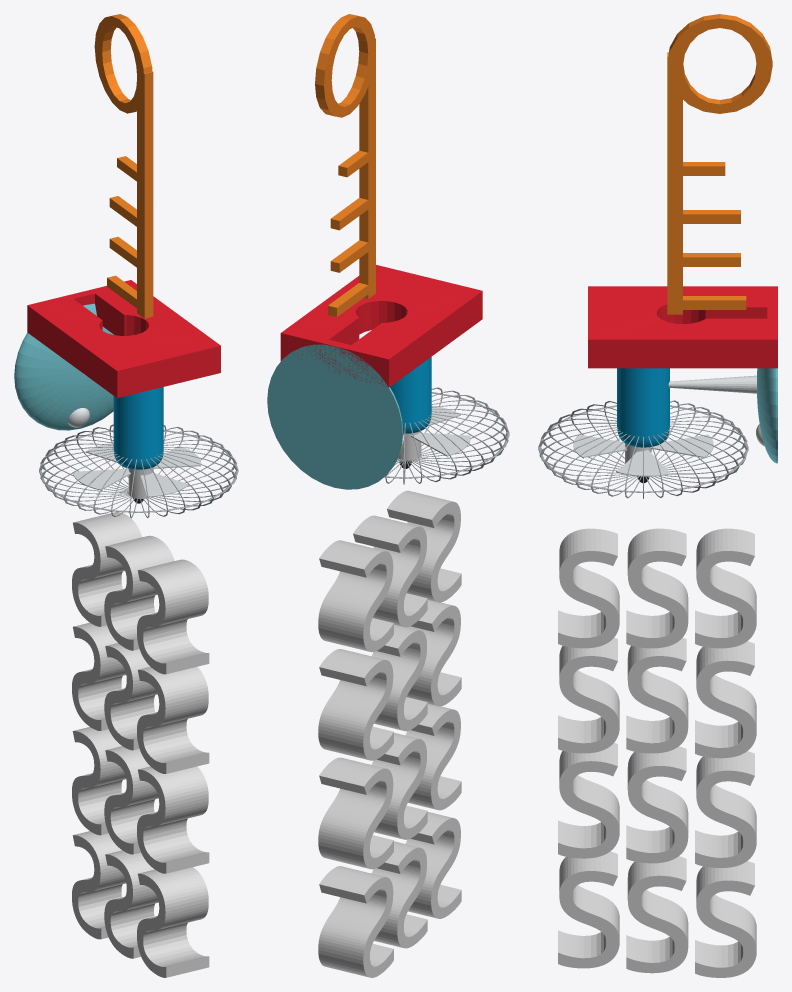
Rendered from tinker.obj.
3 renders of one model, left to right at view 1: azimuth 30°, elevation 25°; view 2: azimuth 150°, elevation 25°; view 3: azimuth 270°, elevation 25°, orthographic. The views are drawn at different scales.
Visible parts, largest first — view 1: obj_0, obj_14, obj_15, obj_1, obj_13, obj_10, obj_12, obj_2, obj_3, obj_9, obj_6, obj_5 (+3 smaller); view 2: obj_0, obj_14, obj_15, obj_6, obj_5, obj_3, obj_4, obj_1, obj_2, obj_12, obj_13, obj_8 (+3 smaller); view 3: obj_0, obj_14, obj_15, obj_2, obj_3, obj_1, obj_8, obj_9, obj_13, obj_4, obj_6, obj_5 (+3 smaller).
Boxes of the visible parts, x1,y1,x2,y2 form: obj_0: [14, 303, 238, 518]; obj_14: [27, 280, 220, 398]; obj_15: [94, 14, 153, 318]; obj_1: [137, 559, 209, 674]; obj_13: [137, 867, 209, 977]; obj_10: [137, 667, 209, 773]; obj_12: [137, 766, 209, 873]; obj_2: [104, 535, 174, 650]; obj_3: [72, 512, 141, 626]; obj_9: [104, 850, 158, 958]; obj_6: [72, 831, 125, 939]; obj_5: [72, 727, 125, 835]; obj_0: [267, 344, 509, 489]; obj_14: [280, 265, 482, 387]; obj_15: [315, 14, 375, 317]; obj_6: [318, 866, 393, 977]; obj_5: [318, 757, 393, 869]; obj_3: [318, 540, 393, 652]; obj_4: [318, 649, 393, 760]; obj_1: [387, 490, 461, 602]; obj_2: [353, 515, 427, 627]; obj_12: [405, 704, 461, 810]; obj_13: [405, 812, 461, 918]; obj_8: [371, 732, 427, 839]; obj_0: [538, 368, 777, 498]; obj_14: [588, 286, 777, 368]; obj_15: [667, 14, 772, 314]; obj_2: [626, 528, 688, 648]; obj_3: [695, 528, 756, 648]; obj_1: [558, 528, 619, 648]; obj_8: [626, 746, 688, 863]; obj_9: [626, 856, 688, 973]; obj_13: [558, 851, 619, 968]; obj_4: [695, 641, 756, 758]; obj_6: [695, 861, 756, 977]; obj_5: [695, 751, 756, 867].
Size of the model in its own units: 40 by 200 by 45.5.
